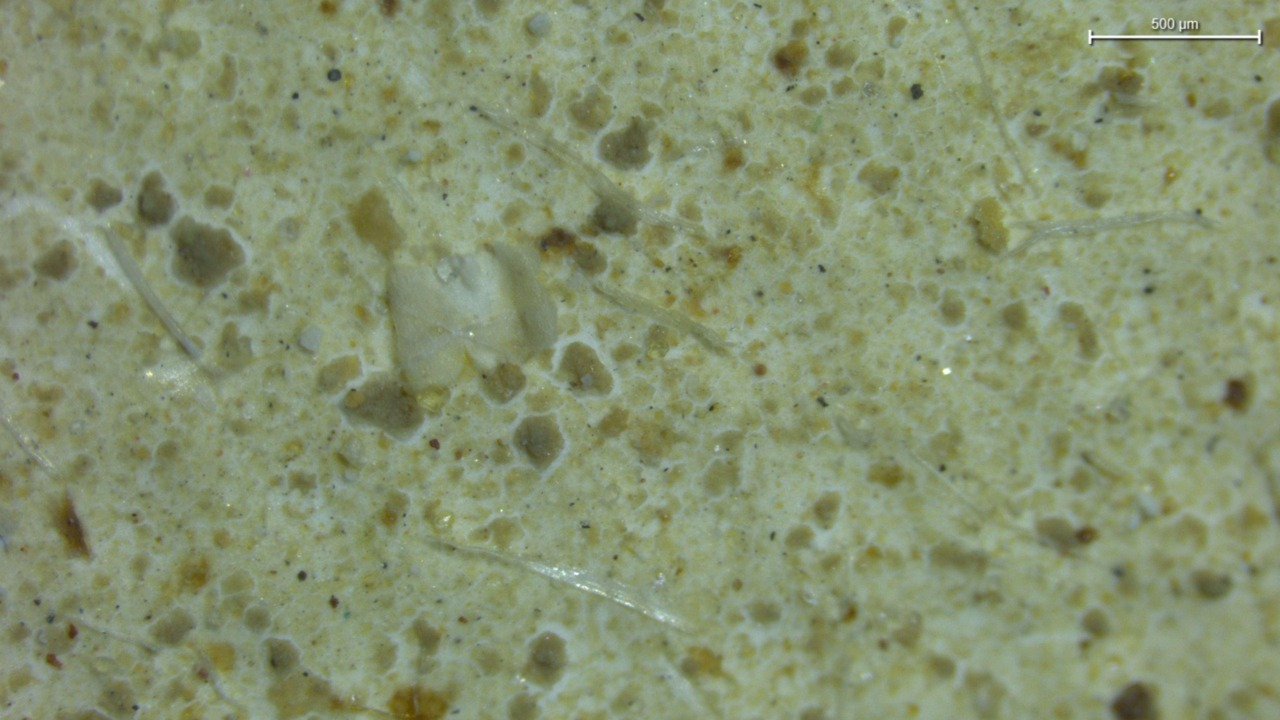microplastic_fragment: (387, 243, 558, 396), (972, 197, 1009, 254), (297, 326, 323, 352), (527, 12, 552, 37)
